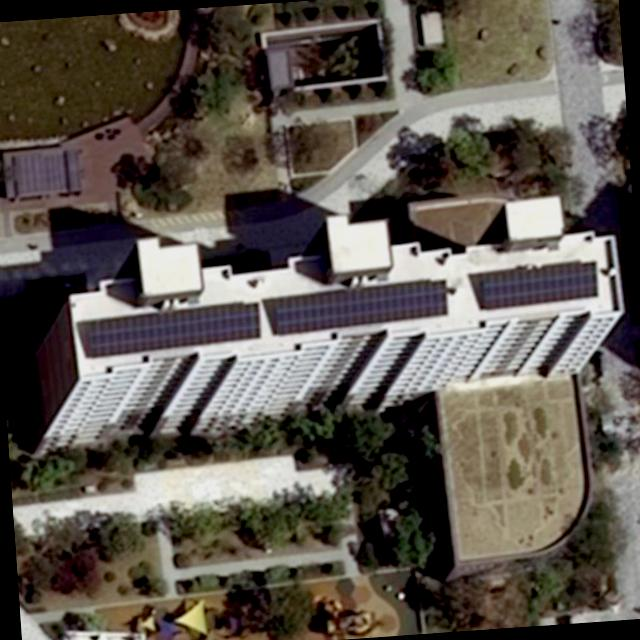solar: (80, 300, 264, 359), (270, 276, 450, 336), (476, 258, 602, 310)
